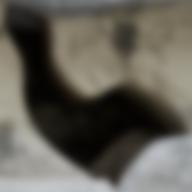brick: (8, 0, 149, 18)
broken_brick: (119, 133, 191, 191), (0, 177, 111, 191)
crack: (0, 0, 190, 191)
